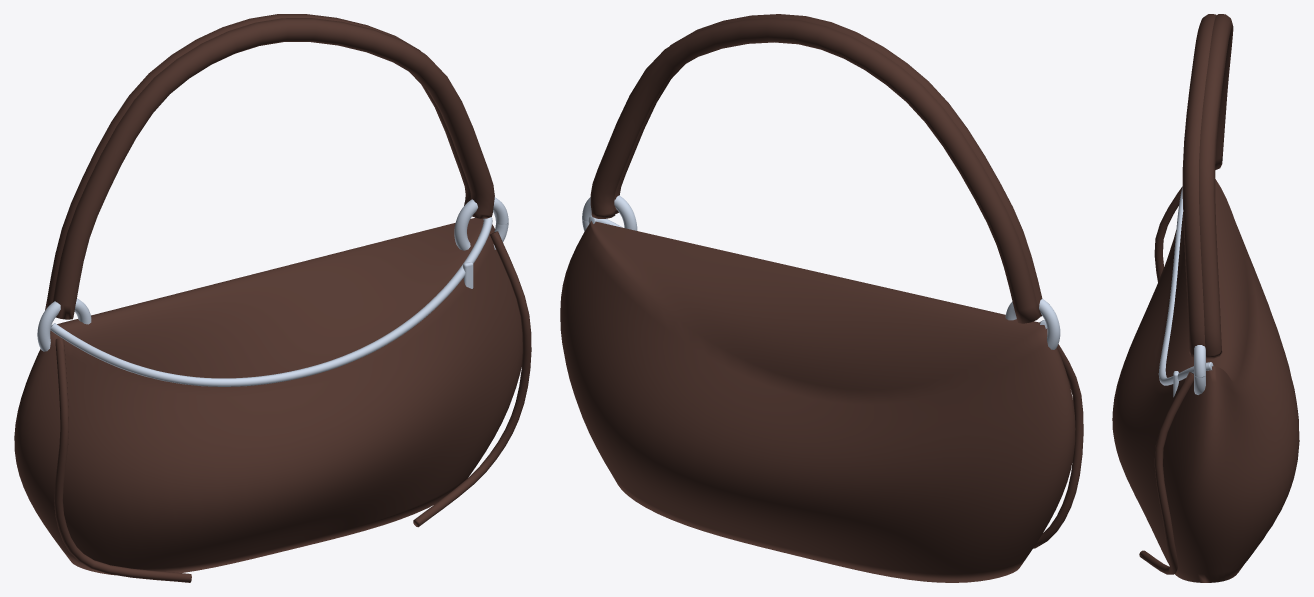
The model's file is shop.glb.
3 renders of one model, left to right at view 1: azimuth 30°, elevation 25°; view 2: azimuth 150°, elevation 25°; view 3: azimuth 270°, elevation 25°, orthographic. The views are drawn at different scales.
Visible parts, largest first — view 1: Bag_leather, Bag_alloy; view 2: Bag_leather, Bag_alloy; view 3: Bag_leather, Bag_alloy.
Boxes of the visible parts, x1,y1,x2,y2 form: Bag_leather: [14, 14, 531, 582]; Bag_alloy: [37, 197, 508, 386]; Bag_leather: [560, 14, 1083, 582]; Bag_alloy: [582, 195, 1060, 349]; Bag_leather: [1112, 14, 1299, 582]; Bag_alloy: [1158, 186, 1213, 397].
Bounding box in the file's own units: 1.16 × 1.13 × 0.4026.
